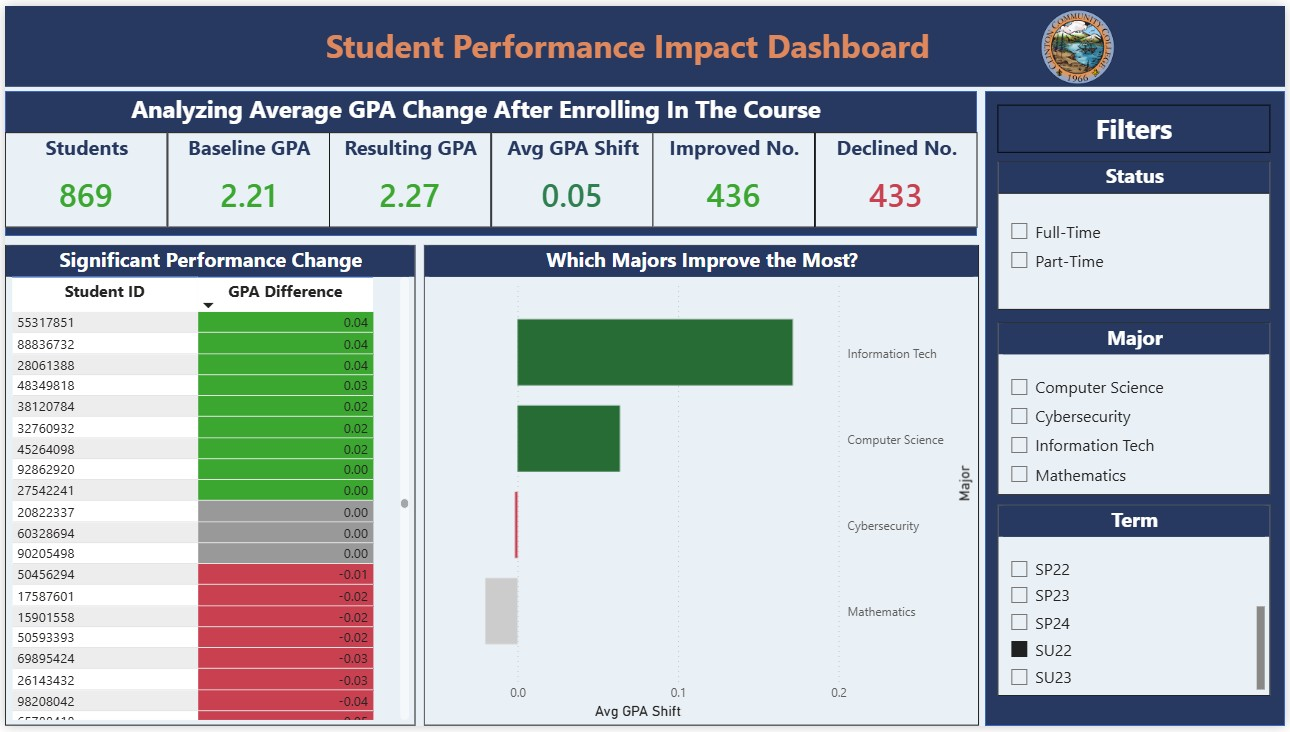

This screenshot's page, from the dashboard's own definition file:
{"tool":"powerbi","page":{"name":"Home","canvas":[1280,720],"ordinal":0},"visuals":[{"type":"shape","box":[980,85,300,635],"z":0},{"type":"shape","box":[0,85,972,145],"z":1000},{"type":"slicer","title":"Term","fields":{"Values":["Student_Records.Term"]},"box":[993,499,273,191],"z":2000},{"type":"tableEx","title":"Significant Performance Change","fields":{"Values":["GPA_Analysis.Student ID","GPA_Analysis.GPA_Diff"]},"box":[0,239,410,481],"z":3000},{"type":"slicer","title":"Status","fields":{"Values":["Student_Records.PT FT Status"]},"box":[993,155,273,149],"z":4000},{"type":"clusteredBarChart","title":"Which Majors Improve the Most?","fields":{"Category":["Student_Records.Major"],"Y":["GPA_Analysis.Avg GPA Shift"]},"box":[419,239,555,481],"z":5000},{"type":"cardVisual","title":"Avg GPA Shift","fields":{"Data":["GPA_Analysis.Avg GPA Shift"]},"box":[486,126,162,95],"z":6000},{"type":"shape","box":[0,0,1280,81],"z":7000},{"type":"textbox","box":[209,13,828,55],"z":8000},{"type":"textbox","box":[85,81,772,53],"z":9000},{"type":"cardVisual","title":"Students","fields":{"Data":["GPA_Analysis.Total Students"]},"box":[0,126,162,95],"z":10000},{"type":"slicer","title":"Major","fields":{"Values":["Student_Records.Major"]},"box":[993,316,273,173],"z":11000},{"type":"cardVisual","title":"Resulting GPA","fields":{"Data":["GPA_Analysis.Average GPA Post"]},"box":[324,126,162,95],"z":12000},{"type":"cardVisual","title":"Baseline GPA","fields":{"Data":["GPA_Analysis.Average GPA Pre"]},"box":[162,126,162,95],"z":13000},{"type":"textbox","box":[993,99,273,48],"z":14000},{"type":"image","box":[915,4,315,74],"z":15000},{"type":"cardVisual","title":"Improved No.","fields":{"Data":["GPA_Analysis.Count Improved"]},"box":[648,126,162,95],"z":16000},{"type":"cardVisual","title":"Declined No.","fields":{"Data":["GPA_Analysis.Count Not Improved"]},"box":[810,126,162,95],"z":17000}]}

Visuals, with their boxes in screenshot pixels (x1, y1, x2, y2), scaled from the page's 1280x720 canvas onto the 1290x732 screenshot:
shape: {"x1": 988, "y1": 86, "x2": 1289, "y2": 731}
shape: {"x1": 0, "y1": 86, "x2": 980, "y2": 234}
"Term" slicer: {"x1": 1001, "y1": 507, "x2": 1276, "y2": 702}
"Significant Performance Change" tableEx: {"x1": 0, "y1": 243, "x2": 413, "y2": 731}
"Status" slicer: {"x1": 1001, "y1": 158, "x2": 1276, "y2": 309}
"Which Majors Improve the Most?" clusteredBarChart: {"x1": 422, "y1": 243, "x2": 982, "y2": 731}
"Avg GPA Shift" cardVisual: {"x1": 490, "y1": 128, "x2": 653, "y2": 225}
shape: {"x1": 0, "y1": 0, "x2": 1289, "y2": 82}
textbox: {"x1": 211, "y1": 13, "x2": 1045, "y2": 69}
textbox: {"x1": 86, "y1": 82, "x2": 864, "y2": 136}
"Students" cardVisual: {"x1": 0, "y1": 128, "x2": 163, "y2": 225}
"Major" slicer: {"x1": 1001, "y1": 321, "x2": 1276, "y2": 497}
"Resulting GPA" cardVisual: {"x1": 327, "y1": 128, "x2": 490, "y2": 225}
"Baseline GPA" cardVisual: {"x1": 163, "y1": 128, "x2": 327, "y2": 225}
textbox: {"x1": 1001, "y1": 101, "x2": 1276, "y2": 149}
image: {"x1": 922, "y1": 4, "x2": 1240, "y2": 79}
"Improved No." cardVisual: {"x1": 653, "y1": 128, "x2": 816, "y2": 225}
"Declined No." cardVisual: {"x1": 816, "y1": 128, "x2": 980, "y2": 225}
